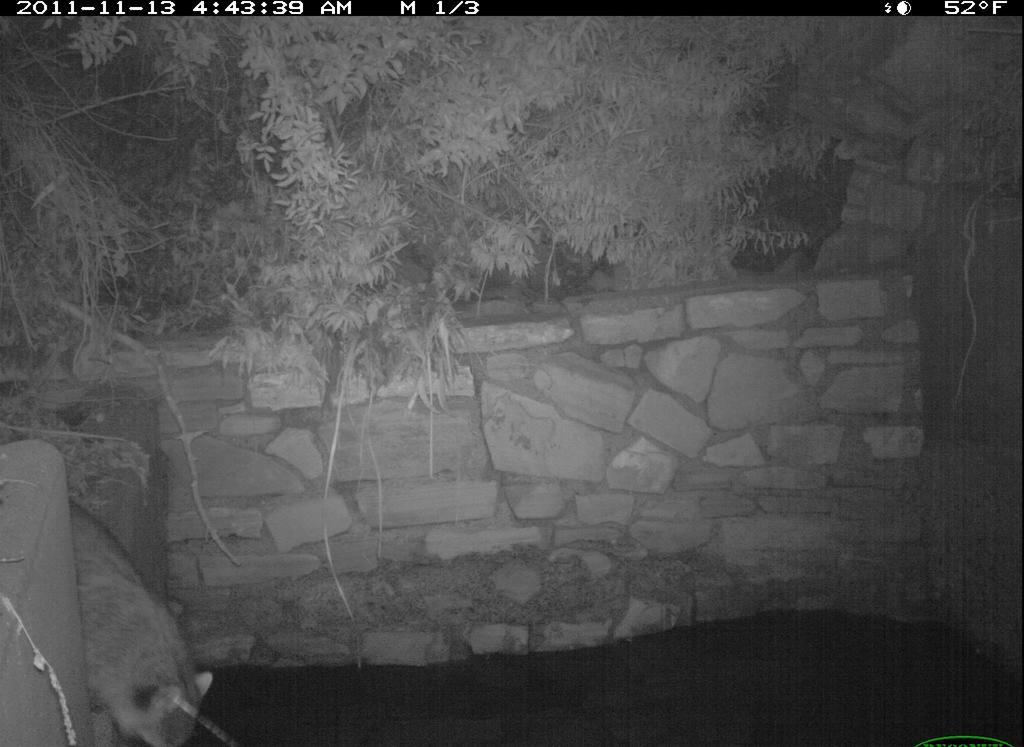raccoon: (56, 468, 227, 747)
